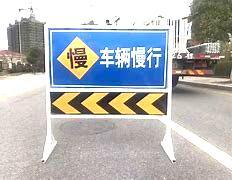sign: (47, 28, 169, 116)
